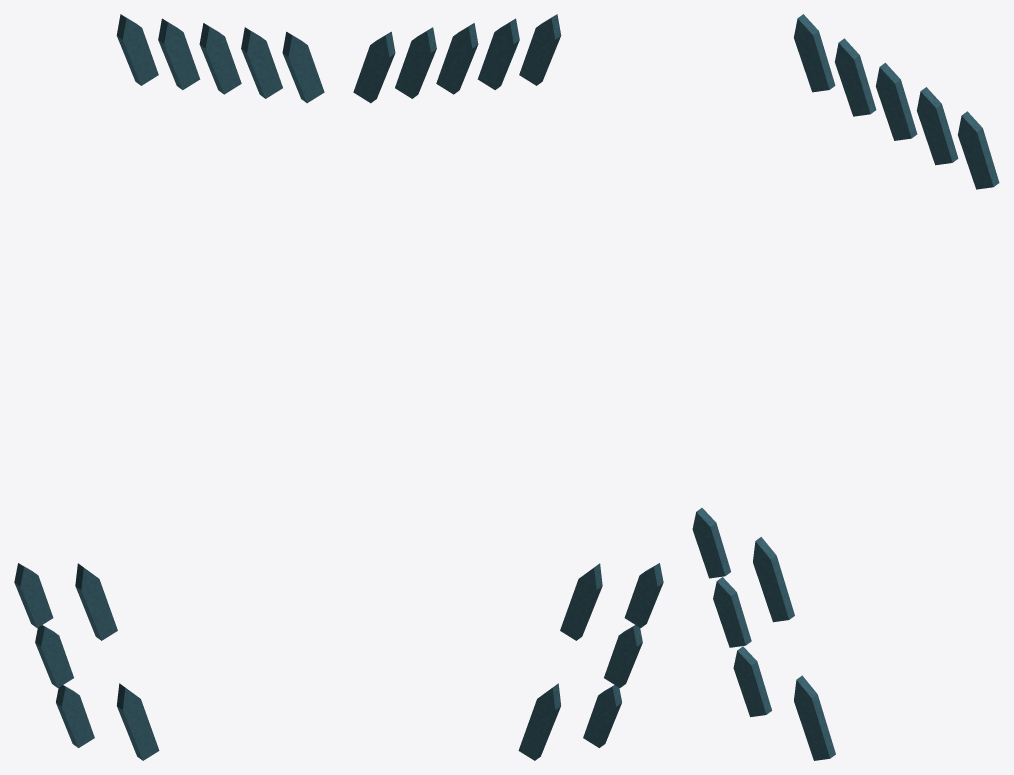
Rendered from gaogongdao_styled_blue.obj.
3 views of the same model, side by side, from view 1: azimuth 30°, elevation 25°; view 2: azimuth 150°, elevation 25°; view 3: azimuth 330°, elevation 25° (orthographic).
Parts seen in each view (by area): view 1: harbor; view 2: harbor; view 3: harbor.
Part boxes in pixels (x1,y1,x2,y2): harbor: (14, 14, 324, 760); harbor: (353, 14, 663, 760); harbor: (692, 14, 999, 760).
Size of the model in its own units: 44.06 by 103 by 1.5.
1 material, 1 textured.
